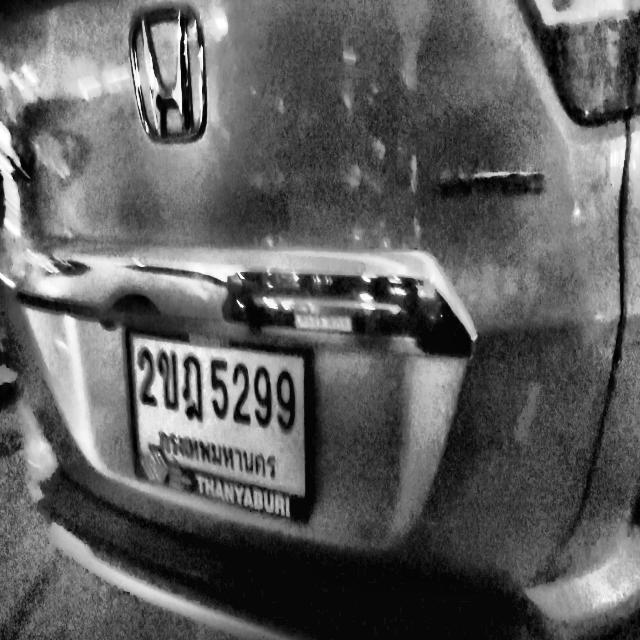license-plate: (131, 336, 305, 502)
